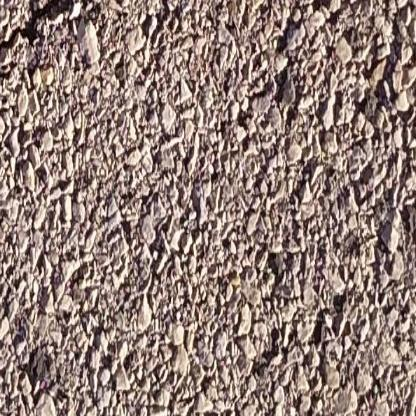Cracks: (0, 0, 111, 92)
